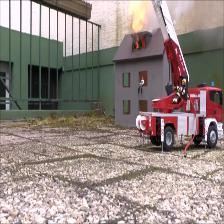fire: (126, 4, 150, 33)
